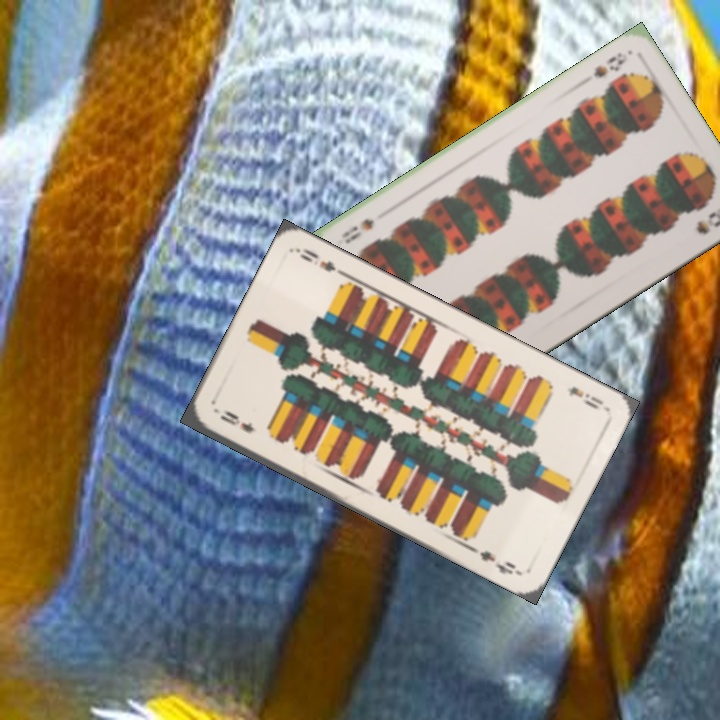E9: (216, 405, 258, 436), (563, 382, 606, 412)
S8: (589, 48, 630, 81)
